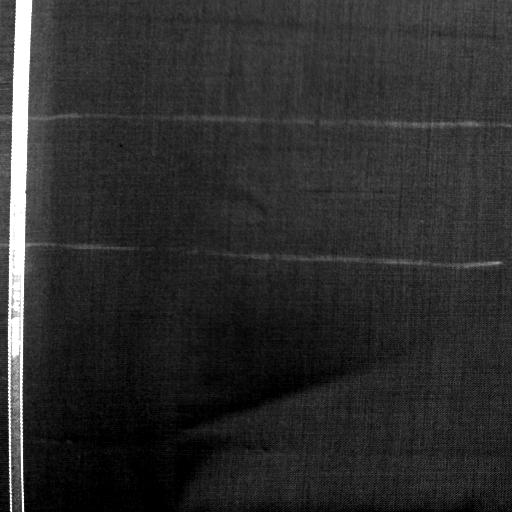fabric_broken_pick: (286, 174, 400, 206)
